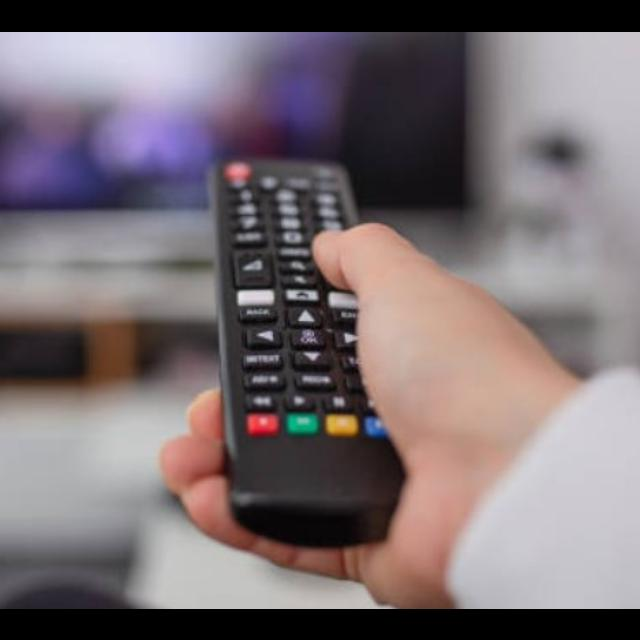TV-Remote-Control: (209, 157, 404, 551)
